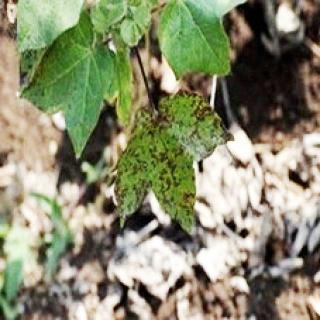leaf spot: (101, 87, 237, 236)
